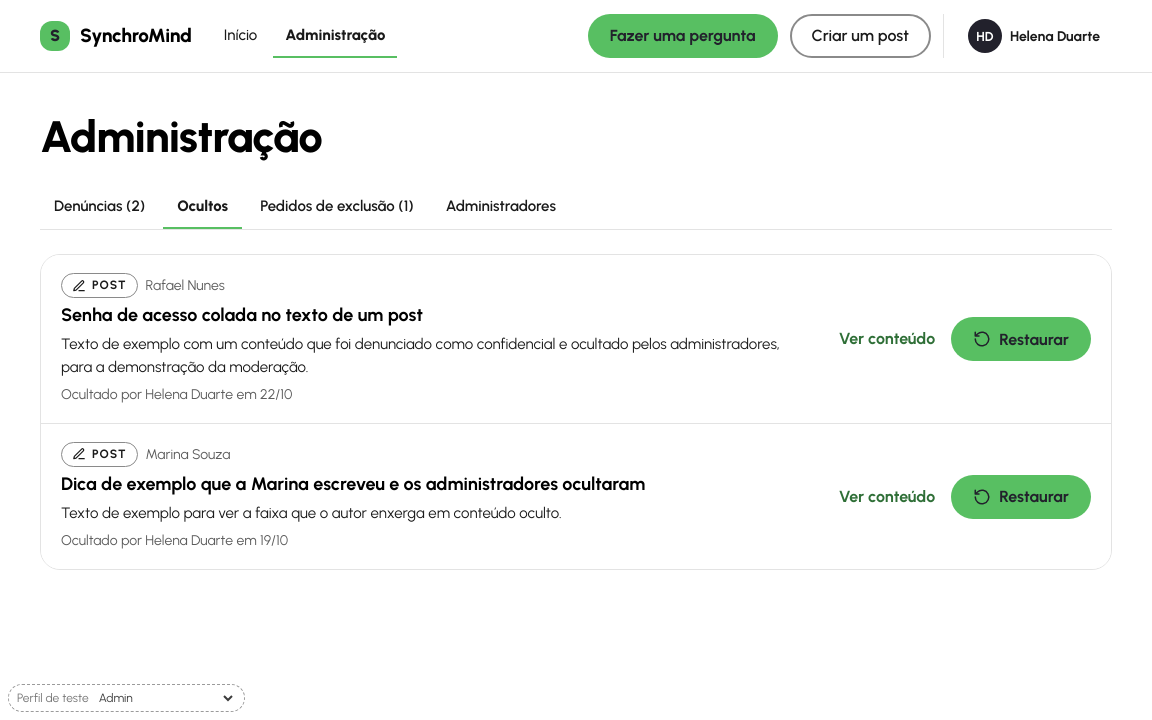
Test case: aba Ocultos (HU-15) › lista os ocultos com "Ocultado por Nome em data" e restaura, com "Desfazer"
This screenshot has width=1152, height=720.
expect the heading "Administração" is shown: met, box [40,110,322,163]
expect the text "Ocultado por Helena Duarte em 22/10" is shown: met, box [61,386,292,403]
Step 1. Click the 1st button "Restaurar" → (1021, 339), box [951,317,1091,361]
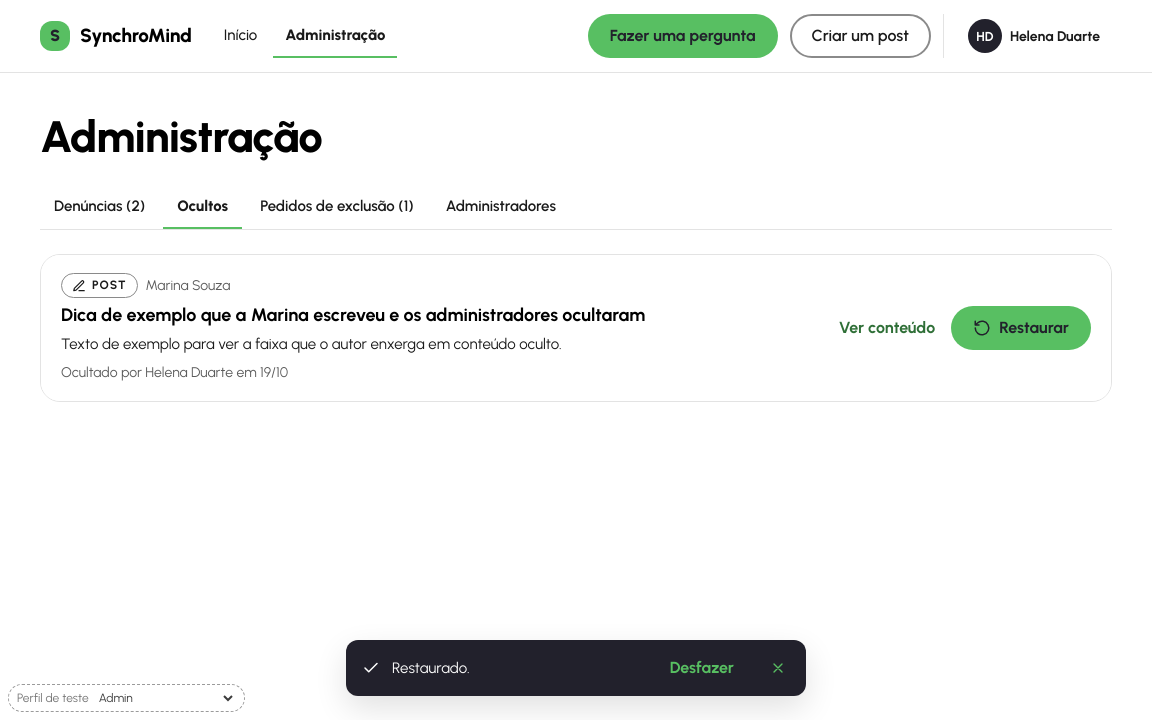
expect the text "Restaurado." is shown: met, box [392,659,470,677]
expect the heading "Senha de acesso colada" is gone: met
Step 2. Click the button "Desfazer" → (702, 668), box [658,650,746,686]
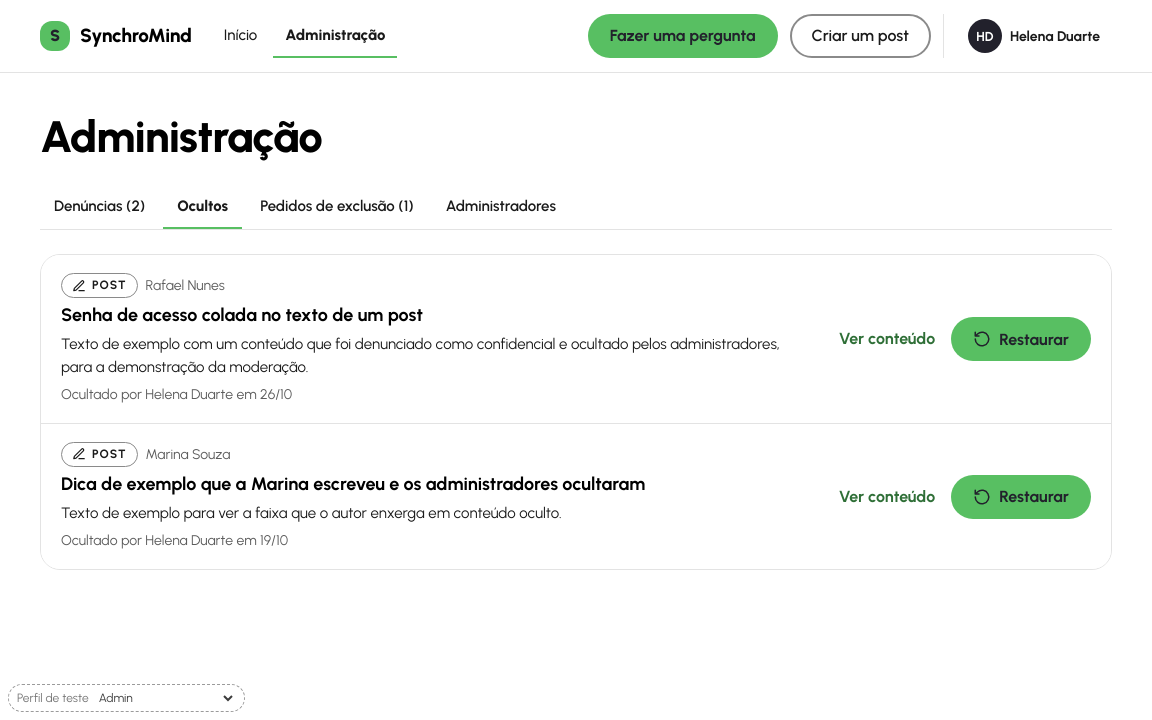
expect the heading "Senha de acesso colada no texto de um post" is shown: met, box [61,304,423,326]
